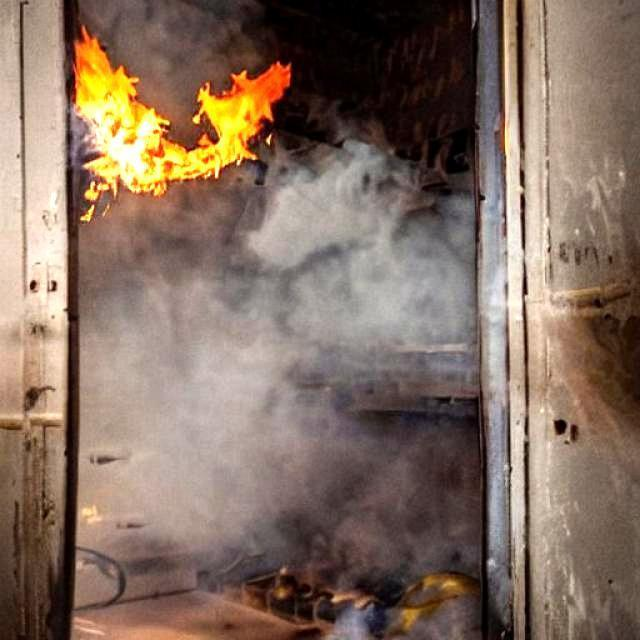Fire: (77, 32, 292, 232)
Smoke: (79, 137, 484, 577)
